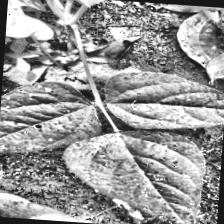ALS: (52, 120, 216, 224), (0, 78, 105, 164), (94, 69, 224, 134)
